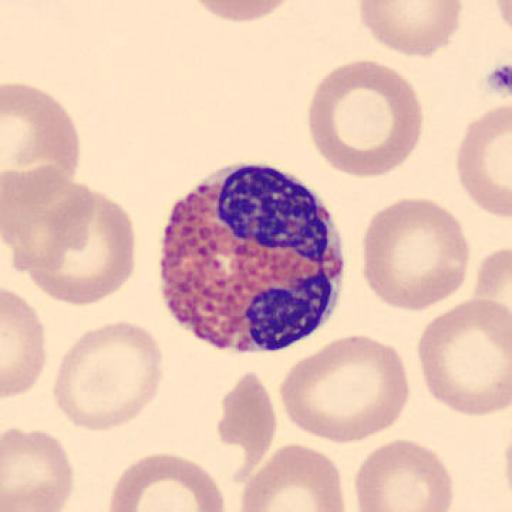RBC: (278, 332, 412, 445), (306, 58, 424, 180), (24, 182, 138, 307), (52, 318, 166, 432), (360, 196, 472, 312), (415, 296, 512, 418), (2, 164, 96, 274), (1, 82, 81, 189), (238, 441, 347, 512), (354, 437, 454, 512), (107, 451, 226, 512), (455, 102, 512, 220), (216, 370, 278, 478), (2, 427, 76, 512), (358, 0, 463, 58), (1, 286, 47, 399), (473, 244, 512, 342), (192, 0, 296, 23), (496, 0, 511, 35)
WBC: (154, 162, 346, 354)
